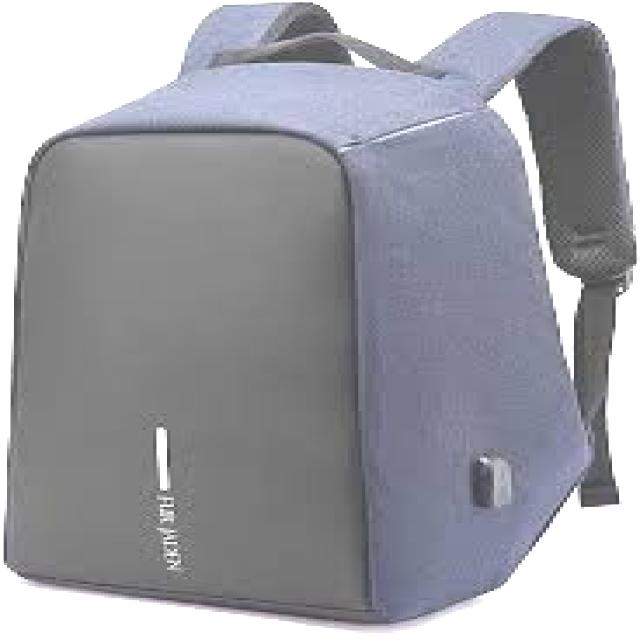backpack: (2, 1, 638, 625)
